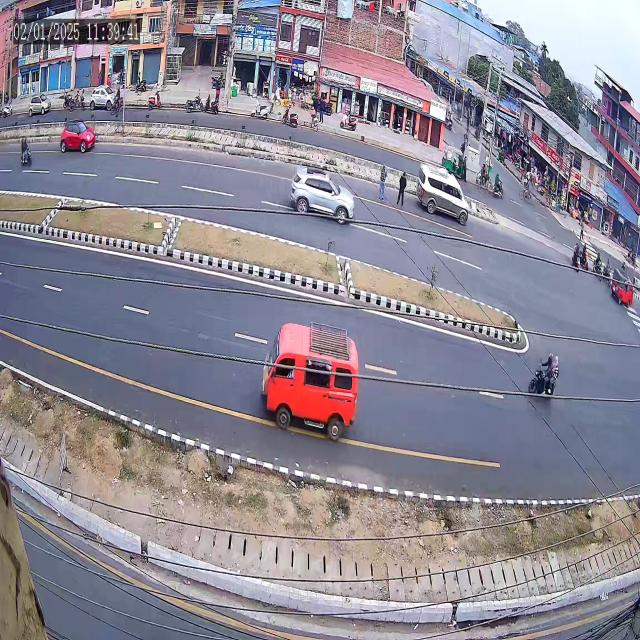car: (284, 153, 354, 231), (410, 157, 471, 227), (55, 115, 97, 163)
motorcycle: (520, 347, 570, 409), (12, 132, 35, 173)
van: (250, 303, 364, 451), (612, 259, 635, 314)
